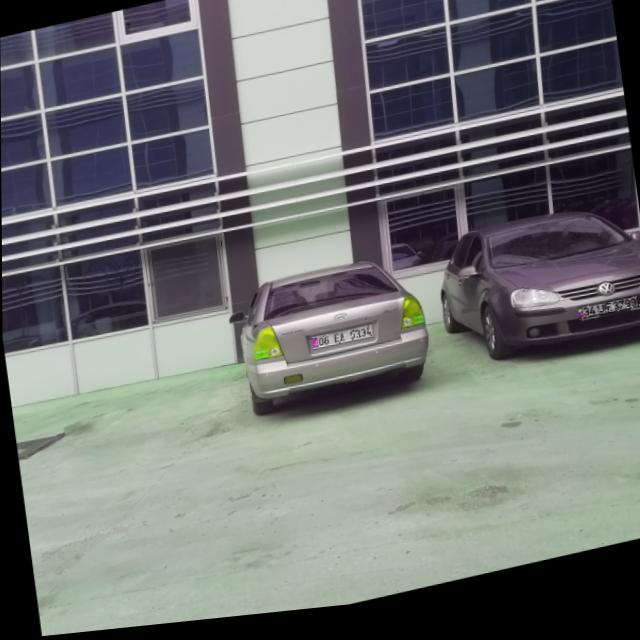license_plate: (310, 332, 373, 356), (577, 308, 640, 332)
